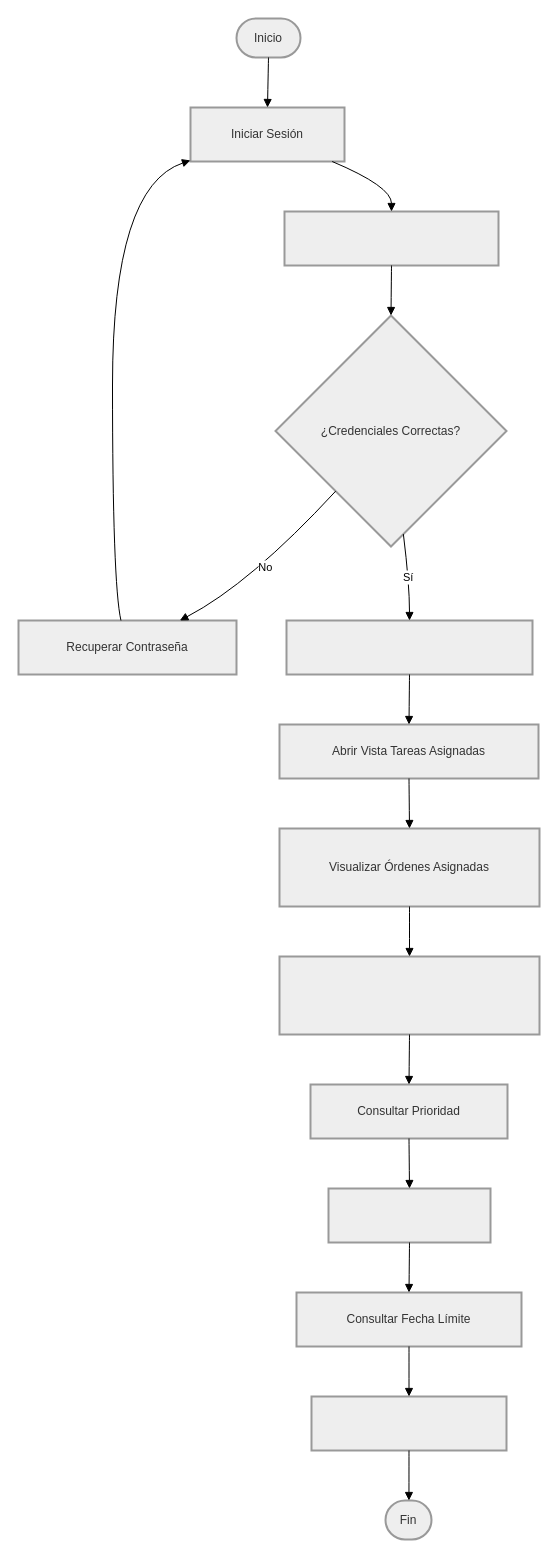
Image size: 557x1557. Some labels were removed from this diagram. The shapes that lost their labels are listed below. From the top down, each one's centre as x and y in pixels, then its label:
At pixel 391 238: "Ingresar Credenciales".
At pixel 409 647: "Ingresar al Panel Operario".
At pixel 409 995: "Consultar Estado de la Tarea".
At pixel 409 1215: "Ver Materiales".
At pixel 408 1423: "Visualizar Progreso".
